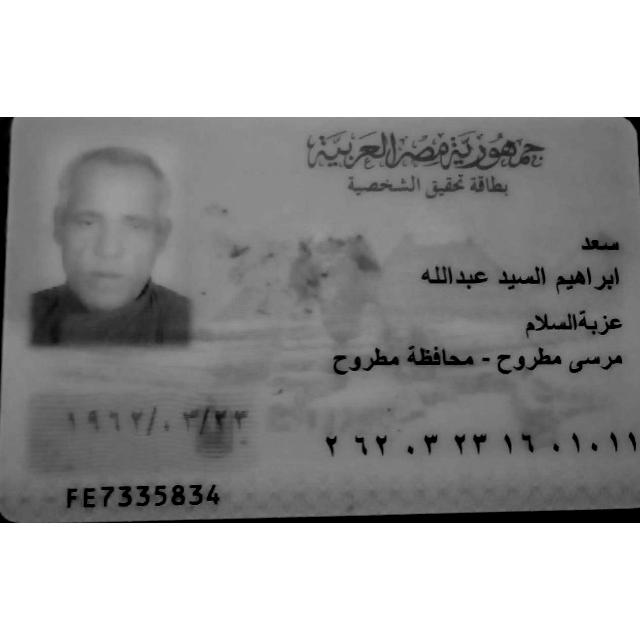id_card: (0, 117, 639, 523)
